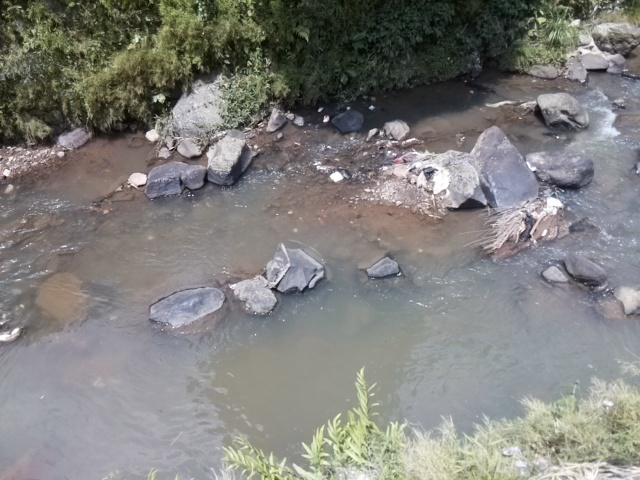Sampah_Styrofoam: (329, 171, 344, 184)
